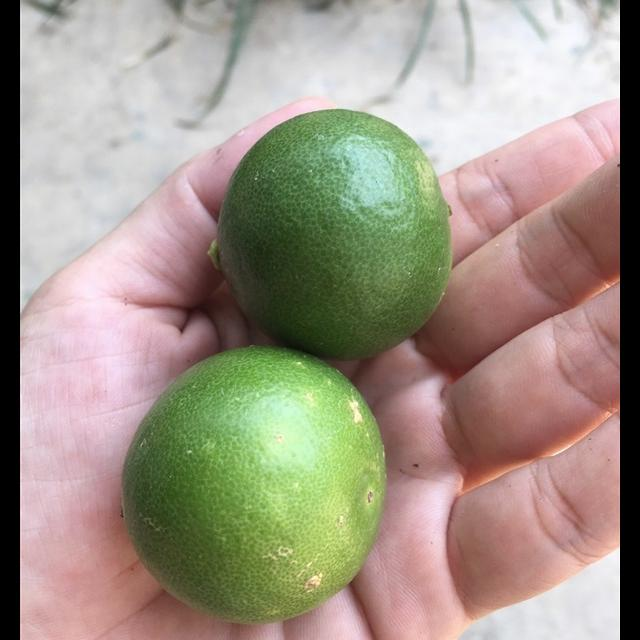lime: (122, 335, 394, 625), (199, 100, 464, 370)
